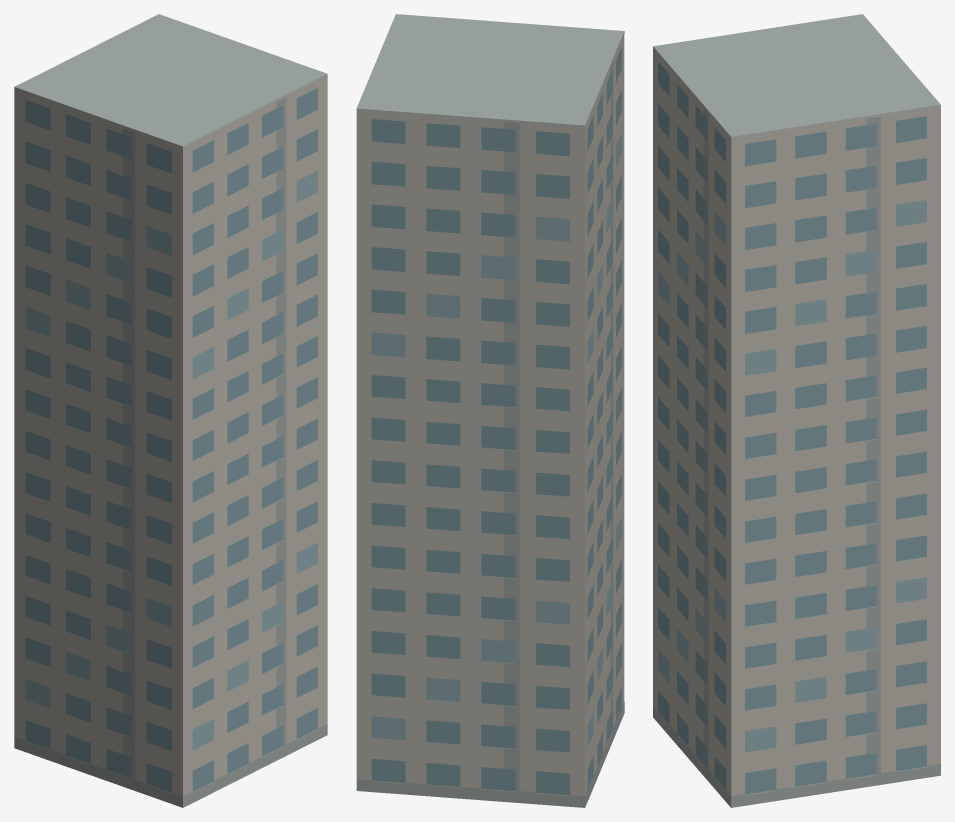
Rendered from residential-8eb6c82f-7fed-4557-a05e-e23b95ac9734.glb.
3 views of the same model, side by side, from view 1: azimuth 30°, elevation 25°; view 2: azimuth 150°, elevation 25°; view 3: azimuth 270°, elevation 25° (orthographic). The views are drawn at different scales.
Visible parts, largest first — view 1: residential-8eb6c82f-7fed-4557-a05e-e23b95ac9734.tmp; view 2: residential-8eb6c82f-7fed-4557-a05e-e23b95ac9734.tmp; view 3: residential-8eb6c82f-7fed-4557-a05e-e23b95ac9734.tmp.
Part boxes in pixels (x1,y1,x2,y2): residential-8eb6c82f-7fed-4557-a05e-e23b95ac9734.tmp: (14, 14, 327, 807); residential-8eb6c82f-7fed-4557-a05e-e23b95ac9734.tmp: (356, 14, 624, 807); residential-8eb6c82f-7fed-4557-a05e-e23b95ac9734.tmp: (653, 14, 940, 807).
Size of the model in its own units: 22.4 by 57 by 22.16.
